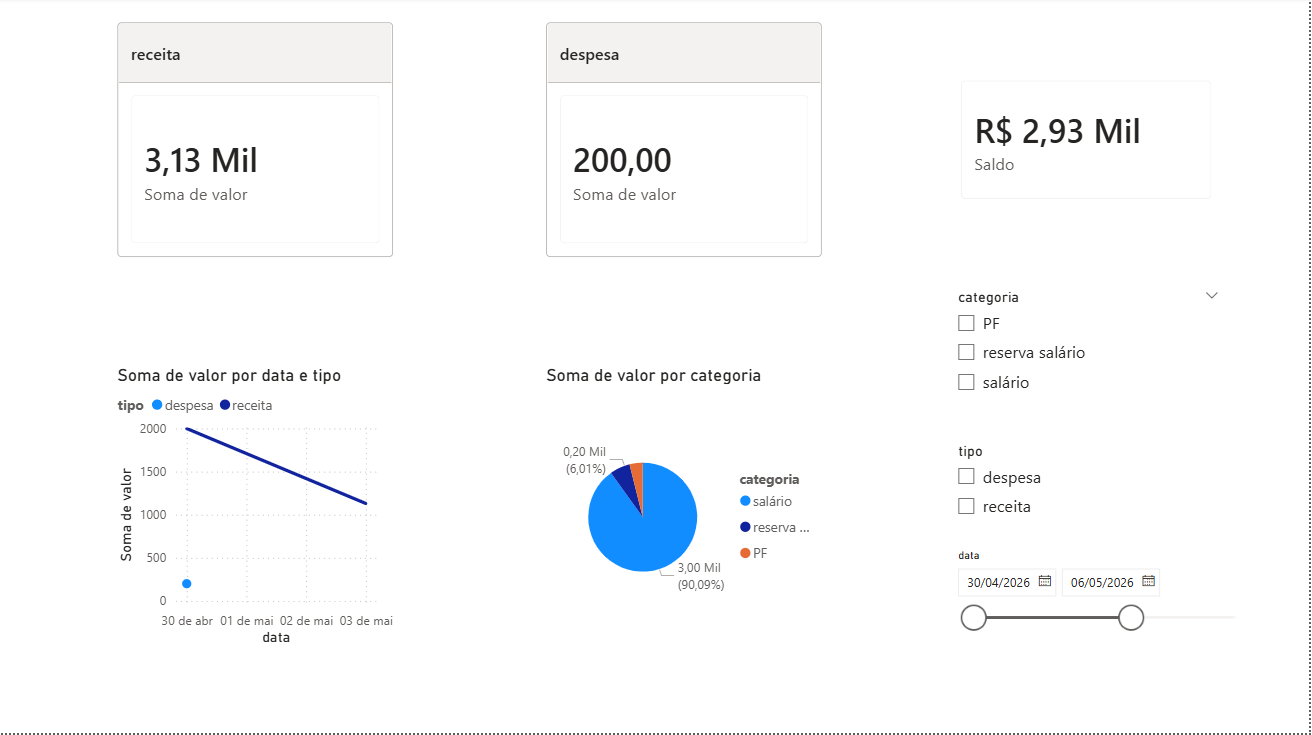

Layout of this report page (visuals, bound fields, positions):
{"tool":"powerbi","page":{"name":"Página 1","canvas":[1280,720],"ordinal":0},"visuals":[{"type":"cardVisual","fields":{"Data":["Sum(Sheet1.valor)"],"Rows":["Sheet1.tipo"]},"box":[109.8,0,279.9,279.9],"z":0},{"type":"cardVisual","fields":{"Data":["Sum(Sheet1.valor)"],"Rows":["Sheet1.tipo"]},"box":[529.7,0,279.9,279.9],"z":1000},{"type":"cardVisual","fields":{"Data":["Sheet1.Saldo"]},"box":[923.5,64.5,279.9,150.9],"z":2000},{"type":"pieChart","fields":{"Category":["Sheet1.categoria"],"Y":["Sum(Sheet1.valor)"]},"box":[529.7,359.5,279.9,279.9],"z":3000},{"type":"lineChart","fields":{"Series":["Sheet1.tipo"],"Category":["Sheet1.data"],"Y":["Sum(Sheet1.valor)"]},"box":[110,360,280,280],"z":4000},{"type":"slicer","fields":{"Values":["Sheet1.categoria"]},"box":[924,279.5,280,151],"z":4001},{"type":"slicer","fields":{"Values":["Sheet1.tipo"]},"box":[924,431,280,209],"z":4002},{"type":"slicer","fields":{"Values":["Sheet1.data"]},"box":[924.2,534.8,306.2,115],"z":4003}]}

Visuals, with their boxes in screenshot pixels (x1, y1, x2, y2), scaled from the page's 1280x720 canvas onto the 1312x735 screenshot:
cardVisual - Sum(Sheet1.valor) x Sheet1.tipo: bbox(113, 0, 399, 286)
cardVisual - Sum(Sheet1.valor) x Sheet1.tipo: bbox(543, 0, 830, 286)
cardVisual - Sheet1.Saldo: bbox(947, 66, 1233, 220)
pieChart - Sheet1.categoria x Sum(Sheet1.valor): bbox(543, 367, 830, 653)
lineChart - Sheet1.tipo x Sheet1.data: bbox(113, 368, 400, 653)
slicer - Sheet1.categoria: bbox(947, 285, 1234, 439)
slicer - Sheet1.tipo: bbox(947, 440, 1234, 653)
slicer - Sheet1.data: bbox(947, 546, 1261, 663)
